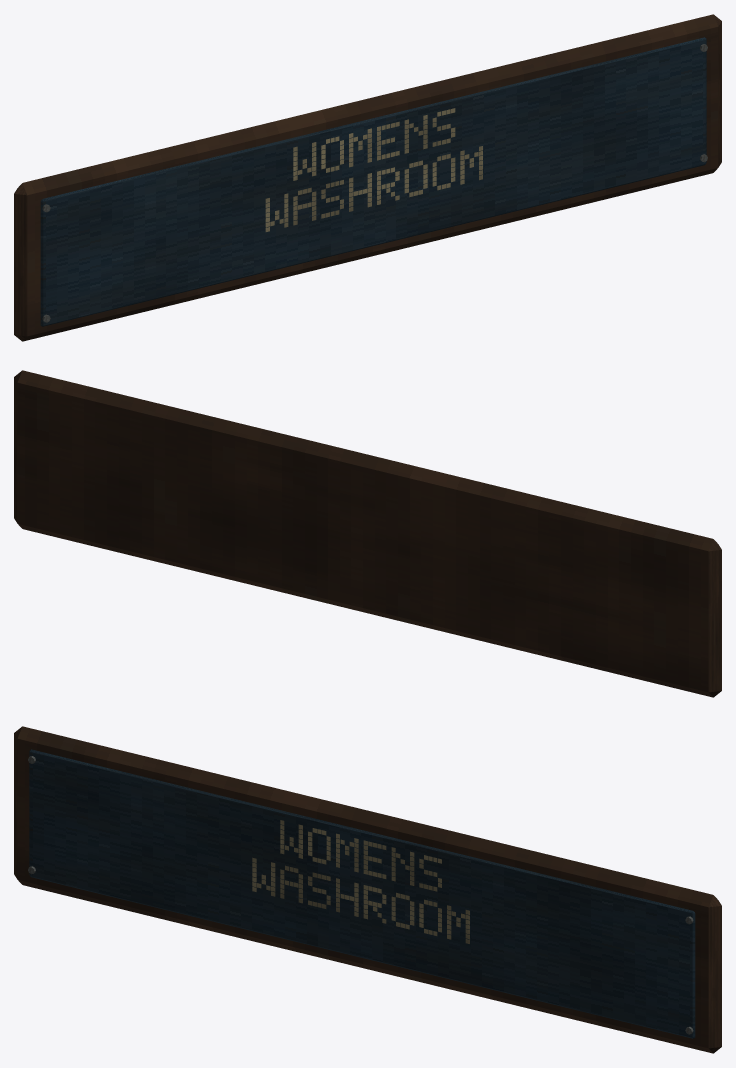
File: level_sign_womens_worn.glb
3 renders of one model, top to bottom at view 1: azimuth 30°, elevation 25°; view 2: azimuth 150°, elevation 25°; view 3: azimuth 330°, elevation 25°, orthographic.
Visible parts, largest first — view 1: level_sign_womens_worn; view 2: level_sign_womens_worn; view 3: level_sign_womens_worn.
Boxes of the visible parts, box(x1,y1,x2,y2) form: level_sign_womens_worn: box(14, 14, 721, 341); level_sign_womens_worn: box(14, 370, 721, 697); level_sign_womens_worn: box(14, 726, 721, 1053).
Size of the model in its own units: 1.68 by 0.36 by 0.053.
4 materials, 4 textured.
